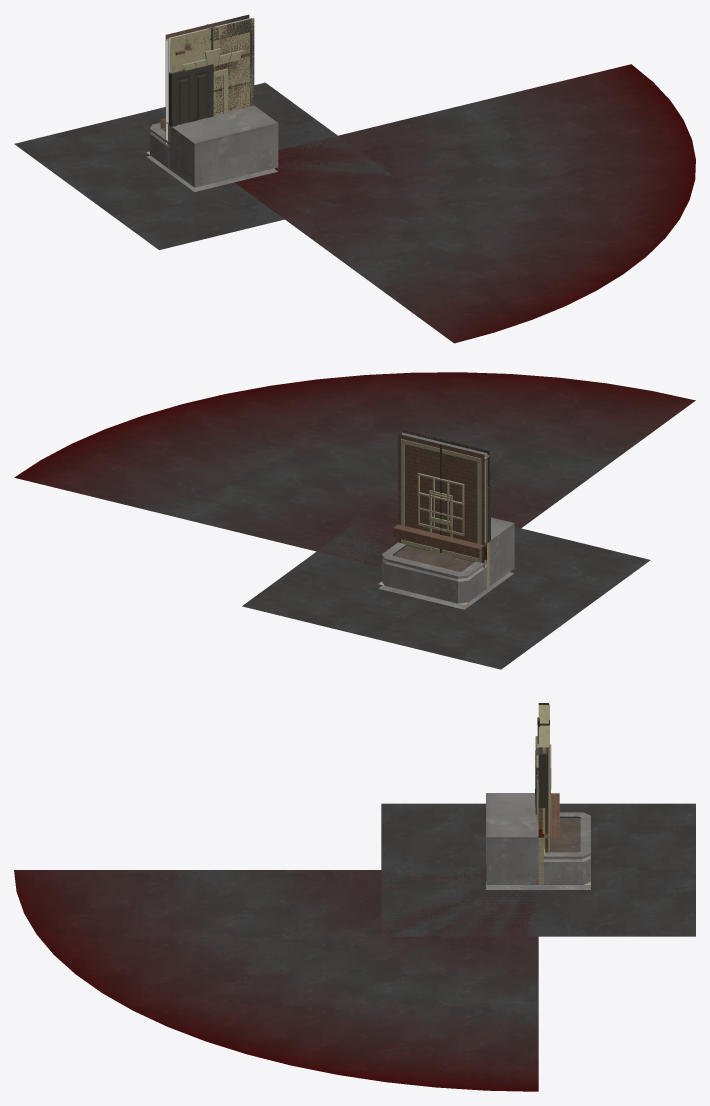
The model's file is downtown.glb.
3 views of the same model, one above another, from view 1: azimuth 30°, elevation 25°; view 2: azimuth 150°, elevation 25°; view 3: azimuth 270°, elevation 25° (orthographic). The views are drawn at different scales.
Parts seen in each view (by area): view 1: Street_Asphalt_Curve_2Lane, Street_Asphalt_6x6, Entrance_Concrete_2x1, Trim_Plain_3, Door_1, Prop_Planter_Single, Brick_Window_Trim_Single, Brick_Window_Square_Single, Metal_FullWindow, Trim_Window, Floor_2x2; view 2: Street_Asphalt_Curve_2Lane, Street_Asphalt_6x6, Brick_Plain_3, Prop_Planter_Single, Metal_Plain_3, Brick_Window_Square_Single, Trim_FirstFloor_Window.001, Brick_Window_Trim_Single, Entrance_Concrete_2x1, Cornice_Brick_Center, Trim_Window, Floor_2x2 (+1 smaller); view 3: Street_Asphalt_Curve_2Lane, Street_Asphalt_6x6, Entrance_Concrete_2x1, Prop_Planter_Single, Trim_FirstFloor_Window.001, Metal_Window_Half.
Boxes of the visible parts, box(x1,y1,x2,y2) form: Street_Asphalt_Curve_2Lane: box(234, 64, 695, 343); Street_Asphalt_6x6: box(14, 82, 400, 249); Entrance_Concrete_2x1: box(170, 105, 278, 187); Trim_Plain_3: box(170, 18, 254, 114); Door_1: box(169, 64, 213, 126); Prop_Planter_Single: box(150, 122, 272, 185); Brick_Window_Trim_Single: box(166, 19, 254, 139); Brick_Window_Square_Single: box(165, 17, 254, 142); Metal_FullWindow: box(169, 18, 254, 105); Trim_Window: box(166, 19, 253, 143); Floor_2x2: box(146, 151, 277, 191); Street_Asphalt_Curve_2Lane: box(14, 372, 695, 567); Street_Asphalt_6x6: box(242, 505, 650, 669); Brick_Plain_3: box(398, 430, 489, 566); Prop_Planter_Single: box(382, 542, 494, 603); Metal_Plain_3: box(398, 430, 489, 543); Brick_Window_Square_Single: box(398, 430, 488, 566); Trim_FirstFloor_Window.001: box(398, 439, 489, 567); Brick_Window_Trim_Single: box(398, 431, 488, 567); Entrance_Concrete_2x1: box(489, 517, 514, 586); Cornice_Brick_Center: box(393, 524, 486, 557); Trim_Window: box(403, 435, 484, 557); Floor_2x2: box(378, 572, 514, 609); Street_Asphalt_Curve_2Lane: box(14, 870, 538, 1091); Street_Asphalt_6x6: box(381, 803, 695, 936); Entrance_Concrete_2x1: box(486, 793, 538, 884); Prop_Planter_Single: box(486, 812, 590, 884); Trim_FirstFloor_Window.001: box(538, 704, 549, 855); Metal_Window_Half: box(538, 720, 549, 807).
Size of the model in its own units: 13 by 3.2 by 13.
Materials: 10 (8 with a texture image).
